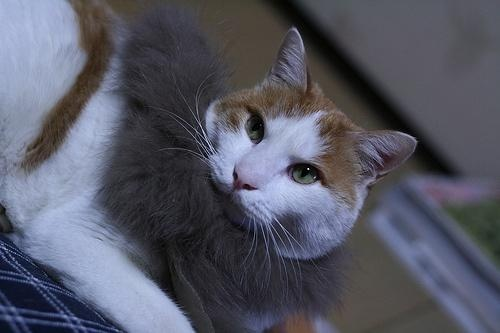cat: (1, 4, 422, 333)
